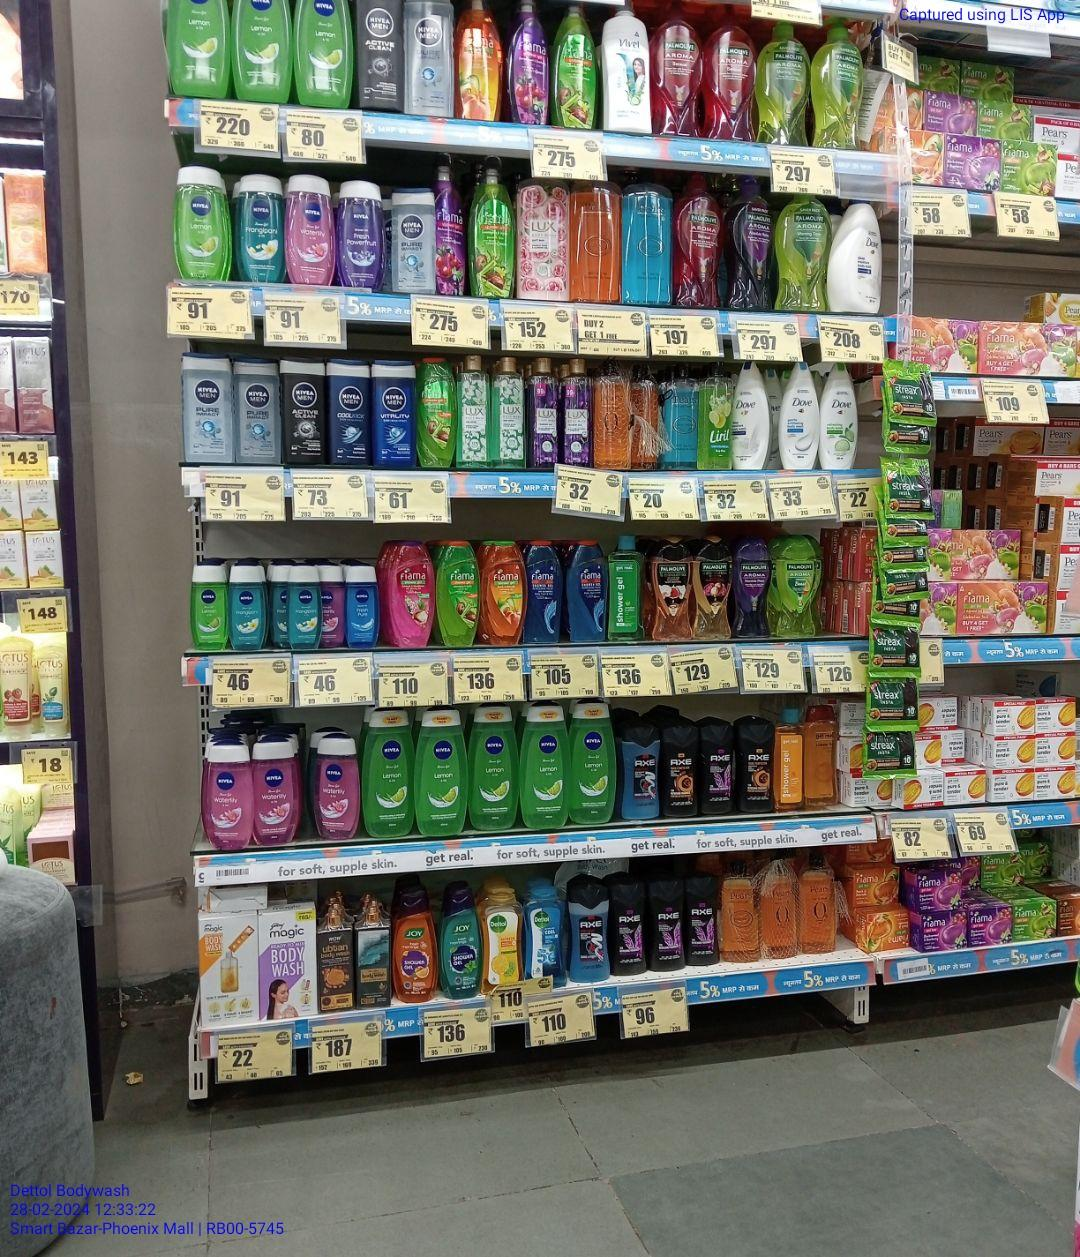Dettol_Bodywash_Cool: (529, 884, 568, 992)
Dettol_Bodywash_Refresh: (482, 886, 526, 1002)
Dove_Deep_Moisture_Body_Wash_250ML: (732, 357, 769, 469)
Dove_Gentle_Exfoliating_Body_Wash_250ML: (782, 358, 819, 474)
Dove_Refreshing_Body_Wash_250ML: (820, 362, 859, 469)
Fiama_Shower_Gel_Lemongrass_and_Jojoba_250ML: (417, 355, 456, 469), (439, 541, 480, 649)
Fiama_Shower_Gel_Patchouli_and_Macadamia_250ML: (394, 542, 433, 650)
Fiama_Shower_Gel_Peach_and_Avocado_250ML: (482, 540, 526, 647)
Joy_Shower_Gel_Mandarin_and_Lemongrass_250ML: (392, 888, 436, 1003)
Joy_Shower_Gel_Mint_and_Eucalyptus_250ML: (442, 887, 480, 1002)
Liril_Lime_and_Tea_Tree_Oil_Body_Wash_250ML: (701, 360, 731, 470)
Lux_Black_Orchid_Scent_and_Juniper_Oil_Body_Wash_245ML: (560, 356, 592, 467), (529, 355, 559, 470)
Lux_Body_Wash_Skin_Detox_Freesia_Scent_and_Alove_Vera_245ML: (458, 353, 492, 470), (493, 355, 525, 469)
Nivea_Shower_Gel_Frangipani_and_Oil_250ML: (234, 171, 283, 282)
Nivea_Shower_Gel_Fresh_Powerfruit_250ML: (336, 177, 388, 290)
Nivea_Shower_Gel_Lemon_and_Oil_250ML: (361, 702, 413, 840), (416, 705, 468, 837), (174, 161, 229, 283), (470, 702, 520, 832), (570, 698, 618, 828), (523, 699, 567, 829)
Nivea_Shower_Gel_Waterlily_and_Oil_250ML: (287, 173, 337, 288), (206, 741, 253, 853), (311, 735, 359, 844), (253, 735, 297, 845)
Palmolive_Aroma_Morning_Tonic_Shower_Gel_250ML: (780, 537, 815, 639)
Palmolive_Aroma_Relax_250ML: (735, 538, 773, 635)
Palmolive_Luminous_Oils_Invigorating_Macadamia_Oil_With_Peony_250ML: (695, 538, 732, 640)
Palmolive_Luminous_Oils_With_White_Orchid_Shower_Gel_250ML: (654, 537, 694, 642)
Pears_Pure_Glycerin_and_Mint_Extracts_Body_Wash_250ML: (661, 362, 698, 470)
